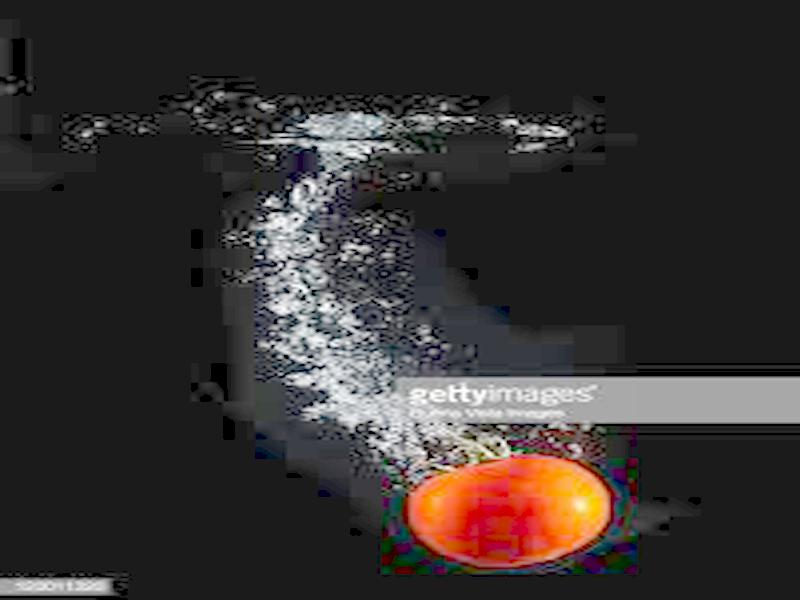Tomato: (406, 454, 609, 562)
